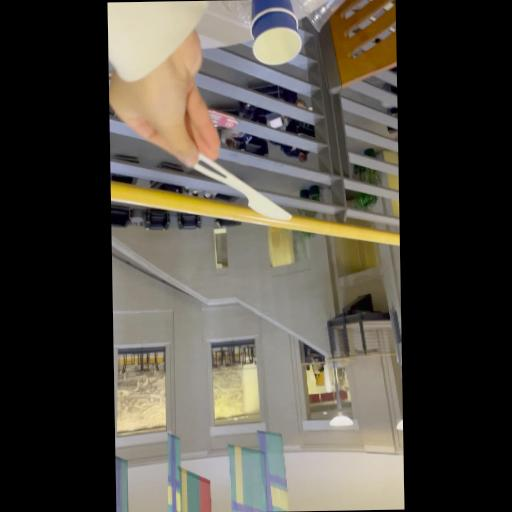utensil: (192, 150, 294, 222)
